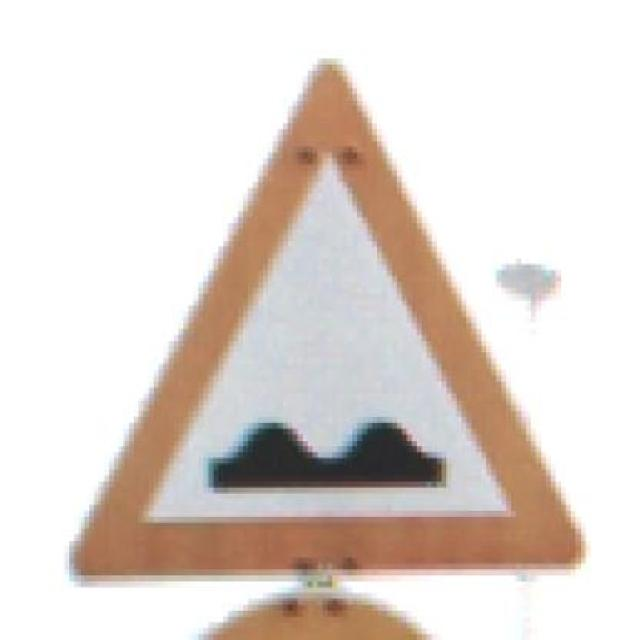Uneven Road: (61, 56, 582, 579)
